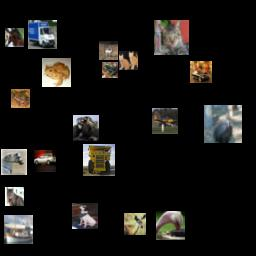airplane: (152, 108, 178, 134)
automobile: (190, 61, 212, 83), (34, 150, 56, 172)
bird: (204, 105, 242, 143), (156, 211, 185, 240)
cat: (154, 20, 189, 55), (5, 187, 24, 206), (119, 51, 138, 70)
deer: (124, 213, 146, 235), (99, 41, 118, 60)
dog: (72, 203, 98, 229)
frog: (42, 58, 71, 87), (11, 89, 30, 108), (102, 62, 118, 78)
ship: (4, 215, 33, 244)
truck: (83, 144, 115, 176), (28, 20, 57, 49), (73, 115, 99, 141)
